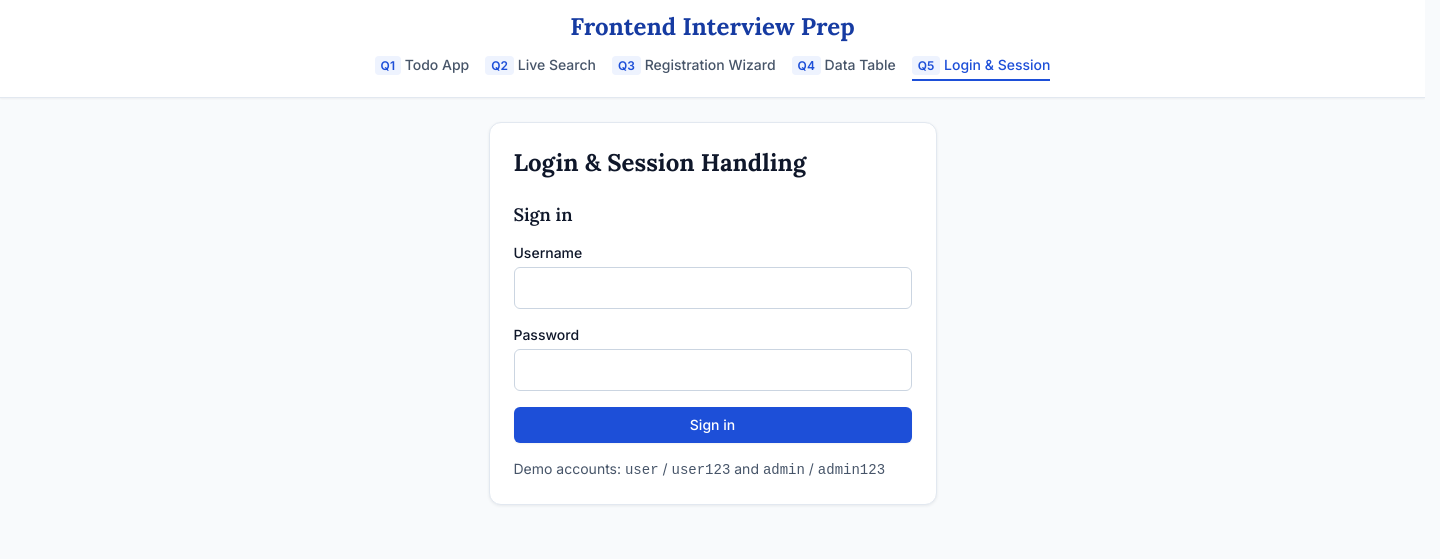
login and session flow › sends a logged-out user to the login page and shows an error for wrong credentials
The width and height of the screenshot is (1440, 559).
expect the heading "Sign in" is shown: met, box [514,203,572,226]
In the field labelled "Username": (712, 288) [514,267,912,309], type "user"
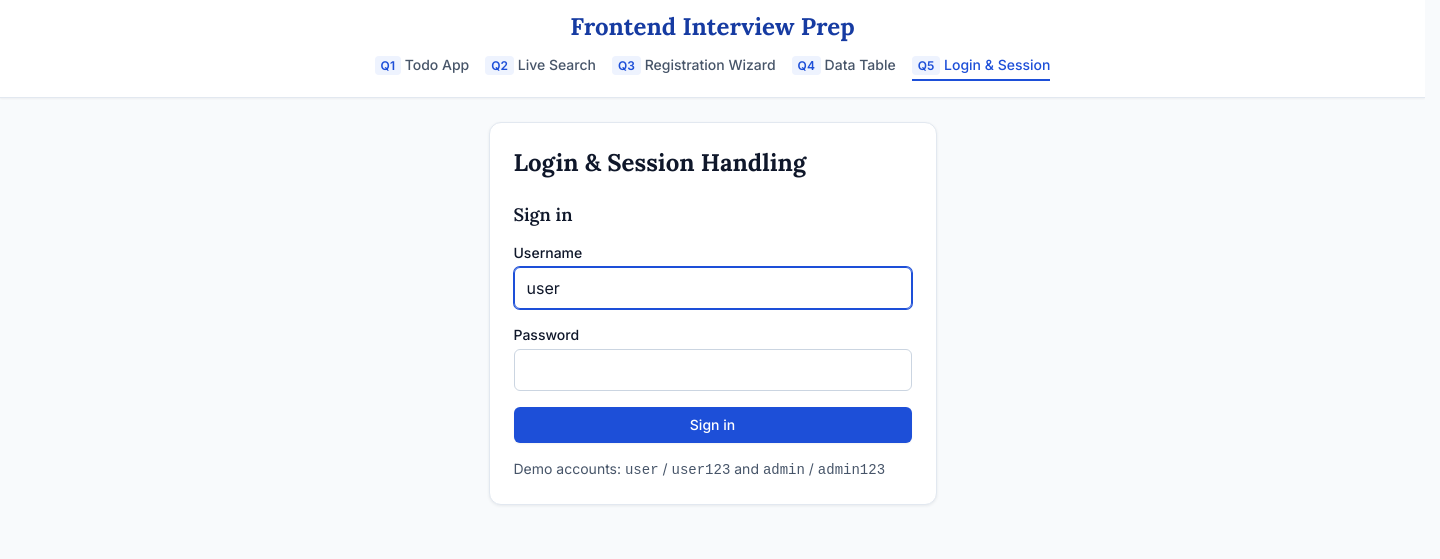
In the password field labelled "Password": (712, 370) [514,349,912,391], type "wrong-password"
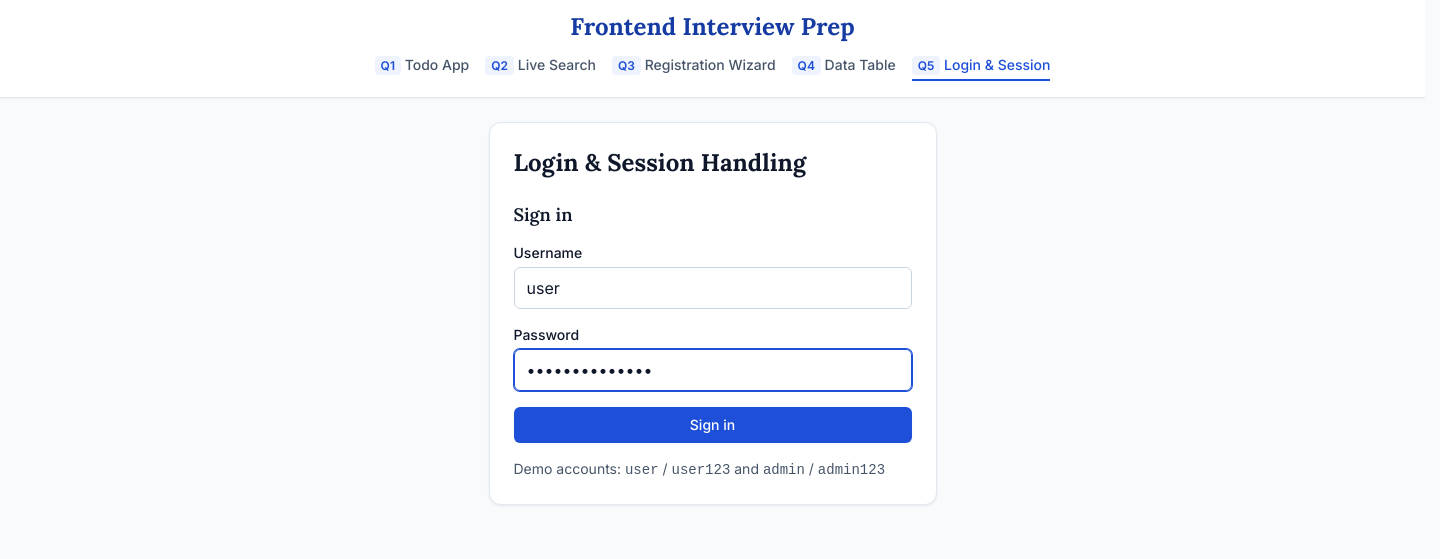
Click the button "Sign in": (712, 425) [514,407,912,443]
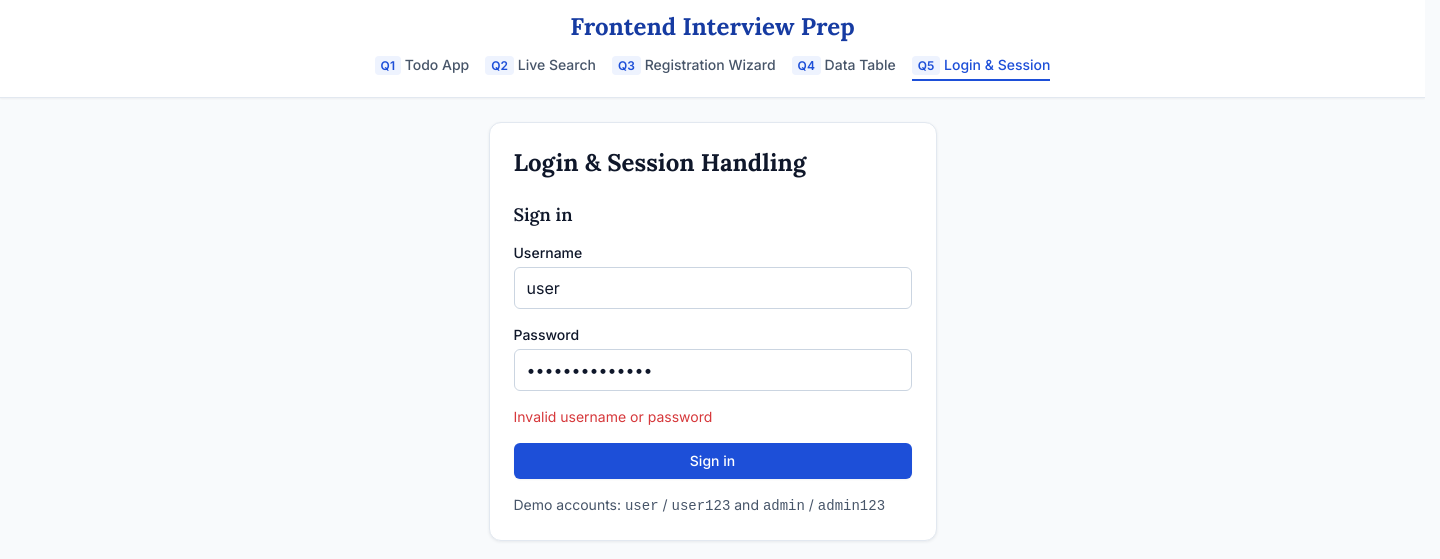
expect the message reads "Invalid username or password": met, box [514,408,712,425]
